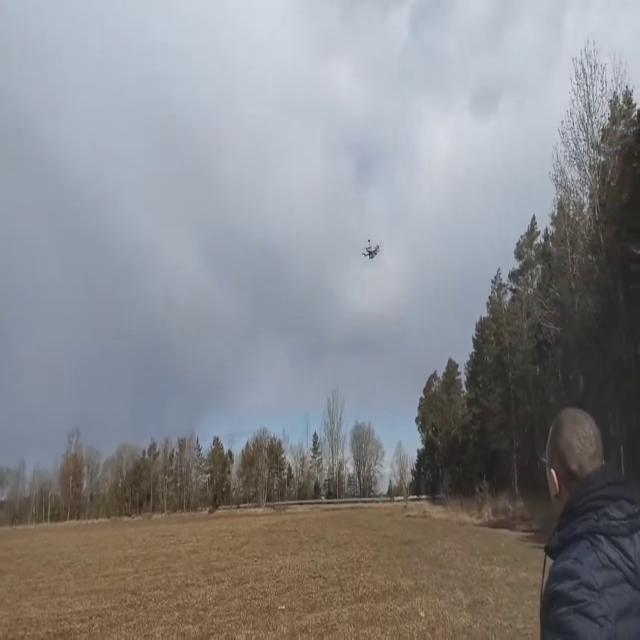Drons: (359, 238, 382, 262)
